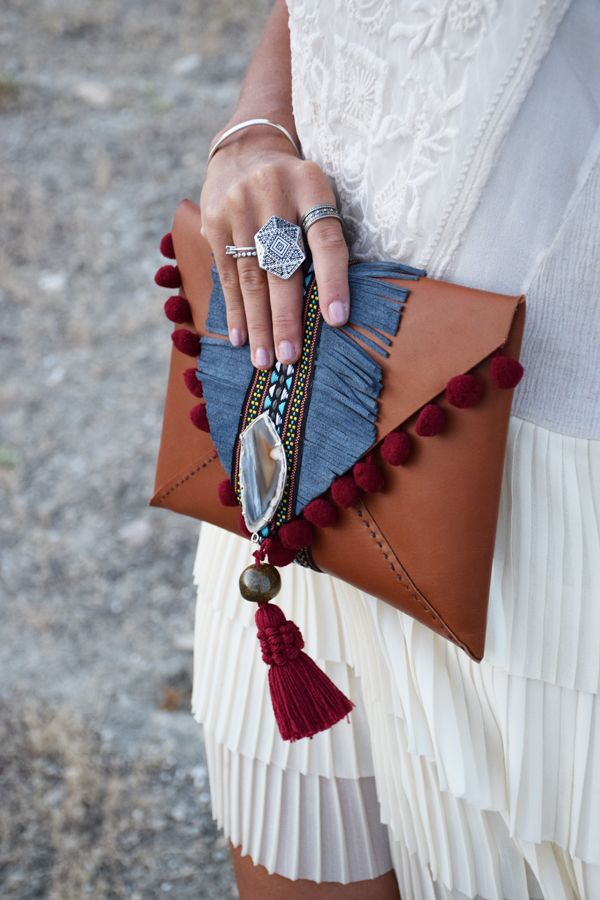cuero: (148, 199, 527, 664)
